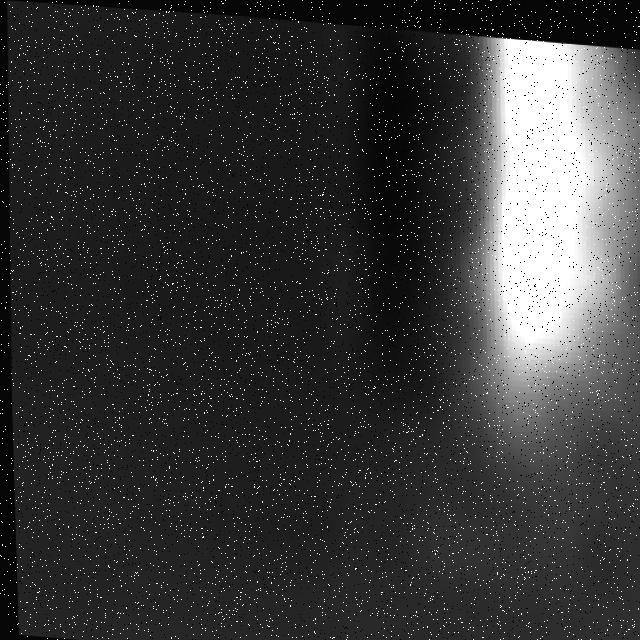person: (432, 26, 640, 473)
